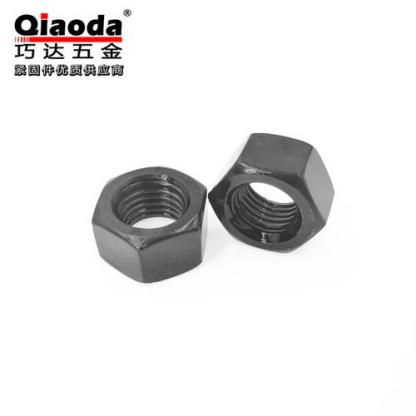FOD: (88, 160, 212, 286), (208, 132, 335, 254)
